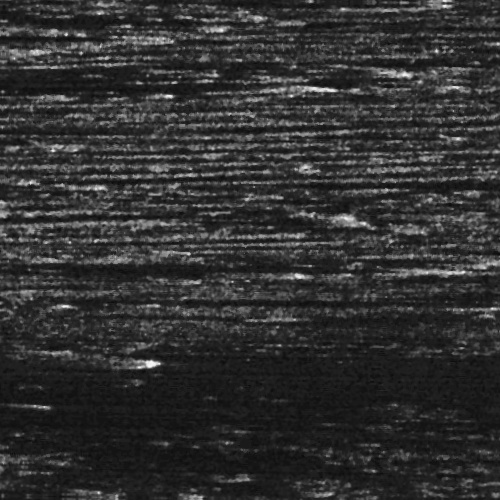object: (194, 75, 371, 92), (303, 256, 490, 269), (48, 356, 193, 367), (193, 267, 318, 278), (300, 212, 363, 223), (464, 251, 500, 260), (272, 314, 293, 319)
shadow: (0, 256, 397, 269), (66, 75, 282, 92), (410, 218, 500, 245), (199, 212, 331, 223), (128, 267, 255, 278), (16, 356, 120, 367), (377, 251, 500, 260), (412, 293, 500, 304), (419, 26, 500, 37), (172, 314, 283, 319)
